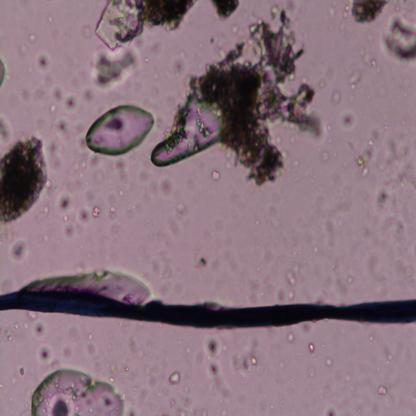Air bubble: (150, 89, 222, 170), (32, 369, 124, 415), (86, 104, 154, 156)
Background material: (199, 12, 325, 186), (347, 103, 413, 236), (91, 1, 198, 52), (0, 130, 52, 220), (315, 207, 358, 296), (53, 134, 102, 196), (91, 48, 139, 92), (108, 195, 147, 248), (9, 66, 57, 107), (383, 12, 416, 66), (199, 333, 228, 384), (142, 170, 178, 211), (55, 195, 89, 234), (51, 86, 77, 137), (310, 63, 343, 100), (231, 337, 264, 374), (357, 31, 385, 71), (349, 0, 387, 27), (325, 1, 352, 38), (281, 258, 303, 301), (121, 328, 148, 360), (188, 251, 223, 275), (166, 206, 192, 238), (143, 369, 166, 400), (170, 395, 204, 414), (31, 343, 57, 366), (209, 0, 242, 18), (3, 320, 27, 343), (114, 157, 133, 186), (10, 238, 30, 265), (351, 65, 369, 94), (29, 314, 48, 339), (339, 107, 357, 132), (35, 46, 50, 74), (23, 25, 40, 45), (12, 360, 26, 381), (60, 342, 74, 360), (89, 202, 103, 220), (0, 61, 9, 89), (302, 361, 314, 380), (166, 370, 181, 385), (208, 168, 221, 185), (285, 332, 297, 348), (324, 352, 334, 371), (375, 382, 388, 396), (342, 372, 353, 385), (325, 406, 337, 416), (307, 340, 315, 354), (323, 388, 333, 398), (48, 14, 55, 23)
Cotton: (0, 289, 416, 331)
